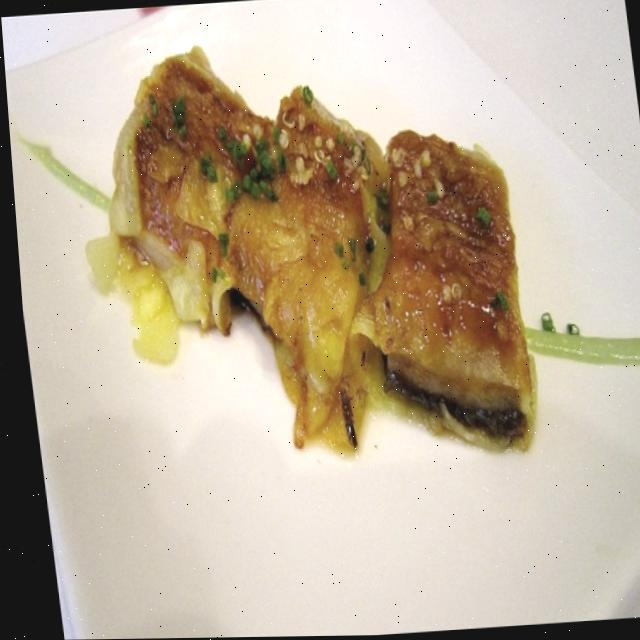牛肉菜式: (51, 4, 589, 529)
